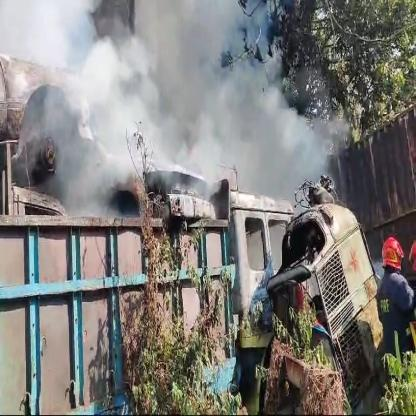Smoke: (0, 0, 347, 228)
